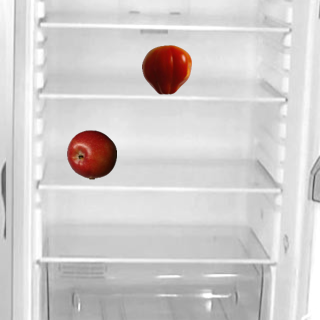Apple Braeburn: (66, 129, 116, 179)
Tomato 1: (141, 44, 191, 94)
